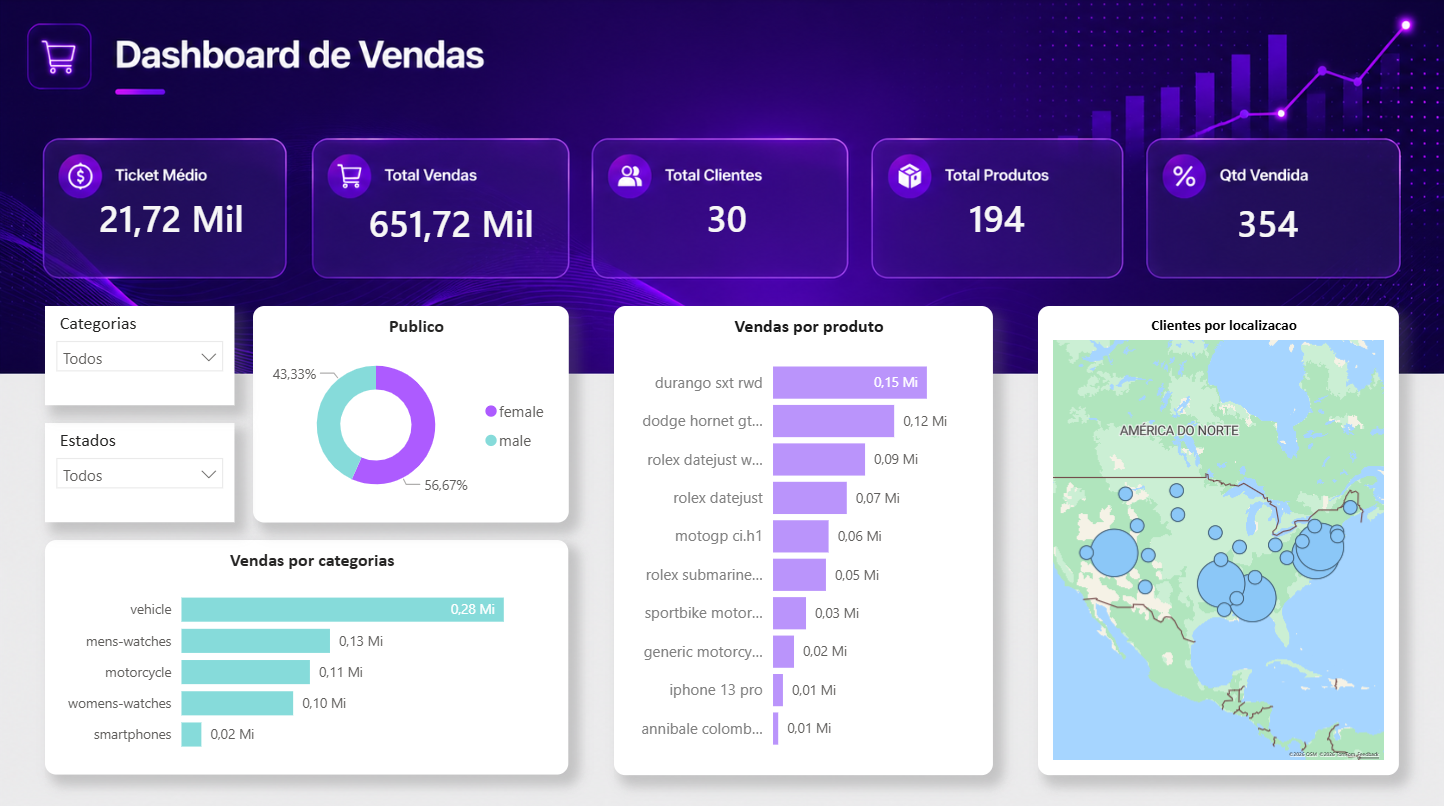

Layout of this report page (visuals, bound fields, positions):
{"tool":"powerbi","page":{"name":"Página 1","canvas":[1280,720],"ordinal":0},"visuals":[{"type":"cardVisual","fields":{"Data":["fact_cart_items.Total Clientes"]},"box":[544,136,200,112],"z":1000},{"type":"cardVisual","title":"Ticket Médio","fields":{"Data":["fact_cart_items.Ticket Médio"]},"box":[48,120,208,144],"z":2000},{"type":"barChart","title":"Vendas por categorias","fields":{"Category":["dim_products.product_category"],"Y":["fact_cart_items.Total Vendas"]},"box":[40,480,464,208],"z":4000},{"type":"barChart","title":"Top produtos Por Receita","fields":{"Category":["dim_products.product_title"],"Y":["fact_cart_items.Total Vendas"]},"box":[544,272,336,416],"z":5000},{"type":"cardVisual","title":"Qtd Vendida","fields":{"Data":["fact_cart_items.Quantidade Vendida"]},"box":[1024,120,200,152],"z":6000},{"type":"azureMap","title":"Clientes por localizacao","fields":{"Size":["fact_cart_items.Total Clientes"],"Category":["dim_address.state"]},"box":[920,272,320,416],"z":7000},{"type":"donutChart","title":"Público por Gênero","fields":{"Category":["dim_users.gender"],"Y":["fact_cart_items.Total Clientes"]},"box":[224,272,280,192],"z":8000},{"type":"slicer","fields":{"Values":["dim_address.state"]},"box":[40,376,168,72],"z":9000},{"type":"slicer","fields":{"Values":["dim_products.product_category"]},"box":[40,280,168,72],"z":10000},{"type":"cardVisual","title":"Ticket Médio","fields":{"Data":["fact_cart_items.Total Vendas"]},"box":[296,128,208,136],"z":12000},{"type":"cardVisual","title":"Qtd Vendida","fields":{"Data":["fact_cart_items.Total Produtos"]},"box":[784,120,200,144],"z":12001},{"type":"textbox","box":[512,688,272,32],"z":12002}]}

Visuals, with their boxes in screenshot pixels (x1, y1, x2, y2), scaled from the page's 1280x720 canvas onto the 1444x806 screenshot:
cardVisual - fact_cart_items.Total Clientes: crop(614, 152, 839, 278)
"Ticket Médio" cardVisual: crop(54, 134, 289, 296)
"Vendas por categorias" barChart: crop(45, 537, 569, 770)
"Top produtos Por Receita" barChart: crop(614, 304, 993, 770)
"Qtd Vendida" cardVisual: crop(1155, 134, 1381, 304)
"Clientes por localizacao" azureMap: crop(1038, 304, 1399, 770)
"Público por Gênero" donutChart: crop(253, 304, 569, 519)
slicer - dim_address.state: crop(45, 421, 235, 502)
slicer - dim_products.product_category: crop(45, 313, 235, 394)
"Ticket Médio" cardVisual: crop(334, 143, 569, 296)
"Qtd Vendida" cardVisual: crop(884, 134, 1110, 296)
textbox: crop(578, 770, 884, 805)
